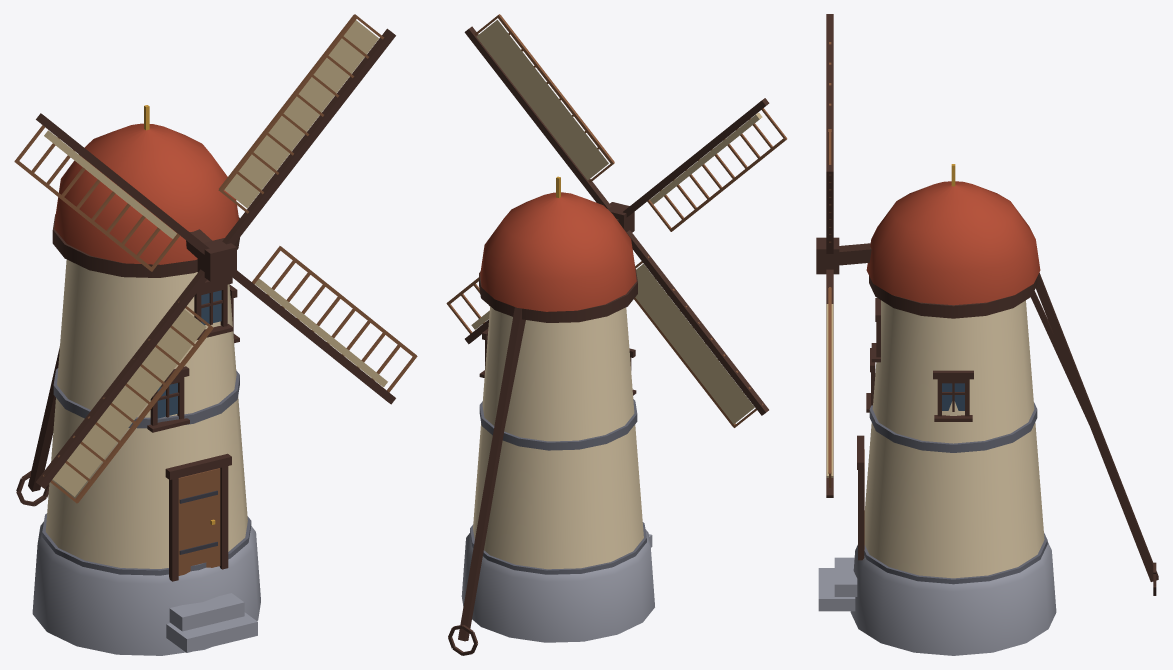
The model's file is windmill.glb.
3 renders of one model, left to right at view 1: azimuth 30°, elevation 25°; view 2: azimuth 150°, elevation 25°; view 3: azimuth 270°, elevation 25°, orthographic. The views are drawn at different scales.
Parts seen in each view (by area): view 1: footing, hub; view 2: footing, hub; view 3: footing, hub.
Boxes of the visible parts, x1,y1,x2,y2 form: footing: (16, 105, 260, 655); hub: (14, 14, 417, 503); footing: (448, 176, 654, 655); hub: (446, 14, 787, 427); footing: (818, 164, 1158, 655); hub: (816, 14, 839, 497).
Bounding box in the file's own units: 9.06 × 13.13 × 7.48.
